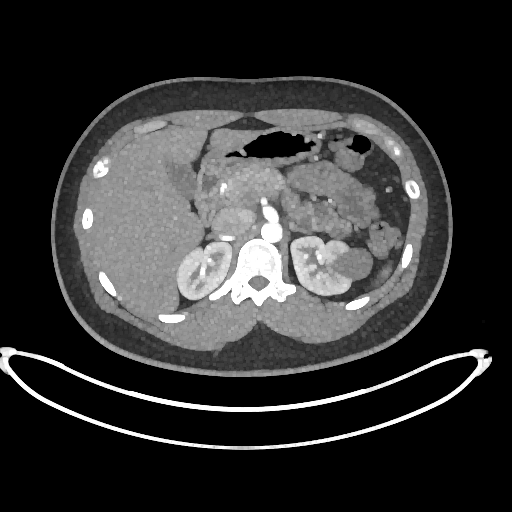Lesion: (332, 243, 374, 281)
